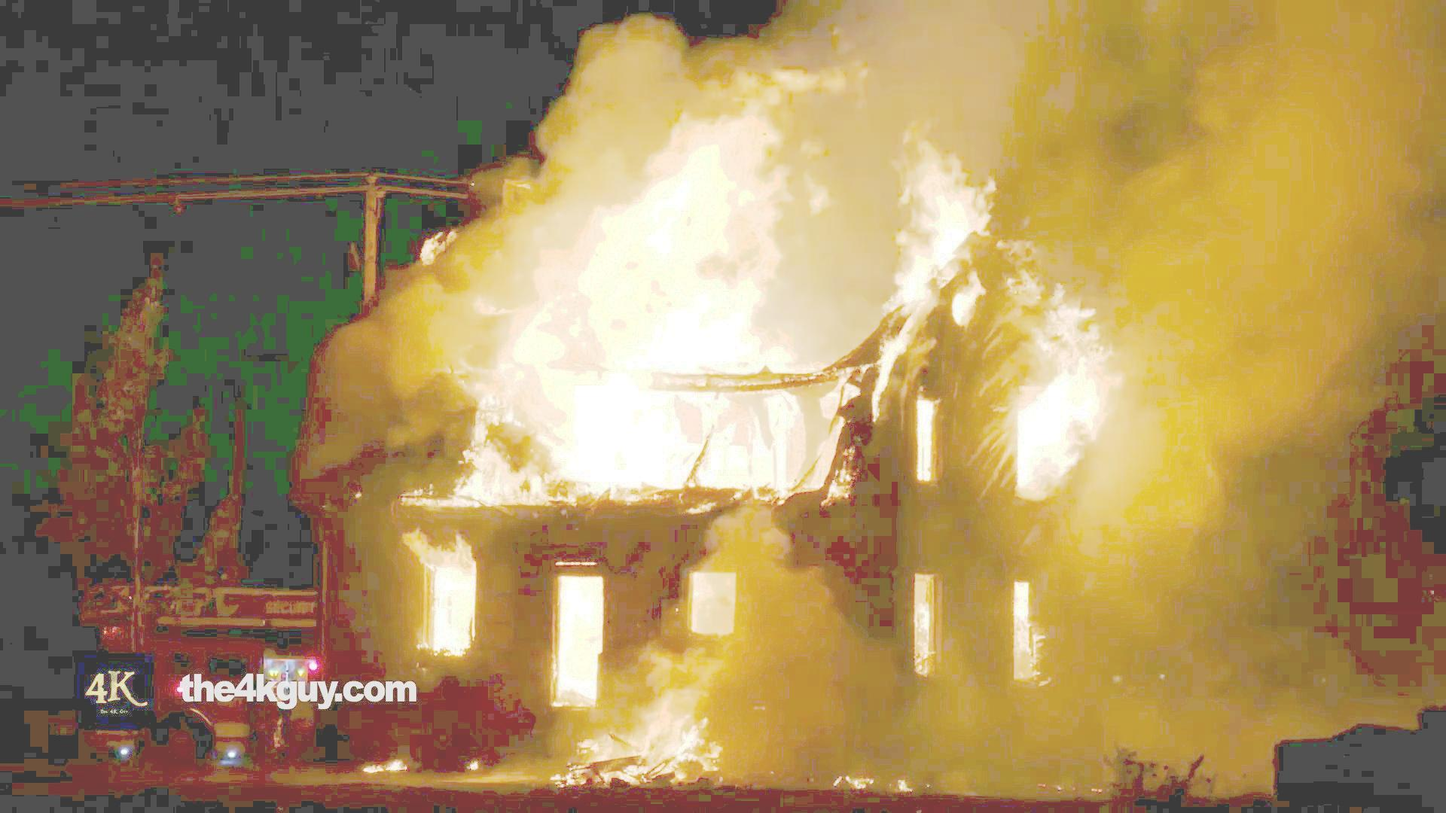fire: (415, 65, 833, 503), (1013, 315, 1162, 494), (862, 132, 1013, 293), (603, 693, 716, 777), (418, 548, 493, 649), (551, 584, 599, 699)
